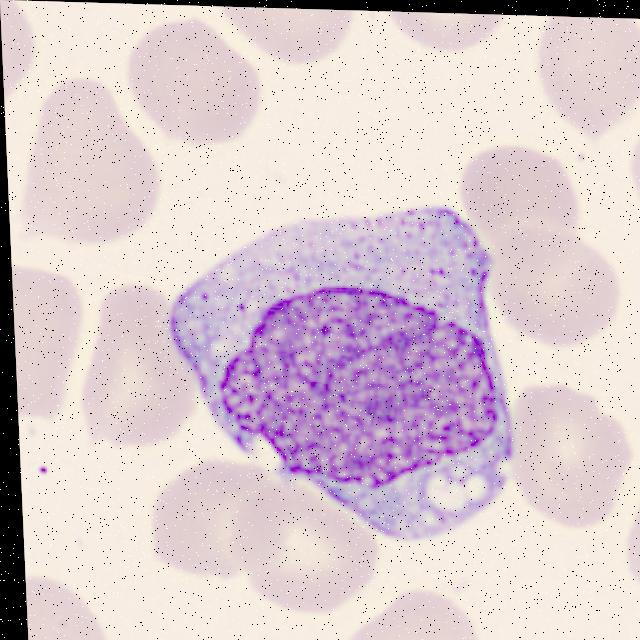monocyte: (153, 174, 517, 538)
rbc: (3, 73, 168, 248), (72, 270, 207, 459), (225, 469, 386, 611), (132, 449, 284, 592), (512, 388, 637, 535), (485, 230, 624, 358), (125, 16, 259, 145), (462, 148, 587, 264), (11, 253, 96, 423), (531, 16, 640, 145), (337, 571, 498, 640), (220, 7, 366, 77), (25, 563, 115, 640), (375, 11, 507, 55), (614, 457, 640, 608), (627, 104, 640, 227)
